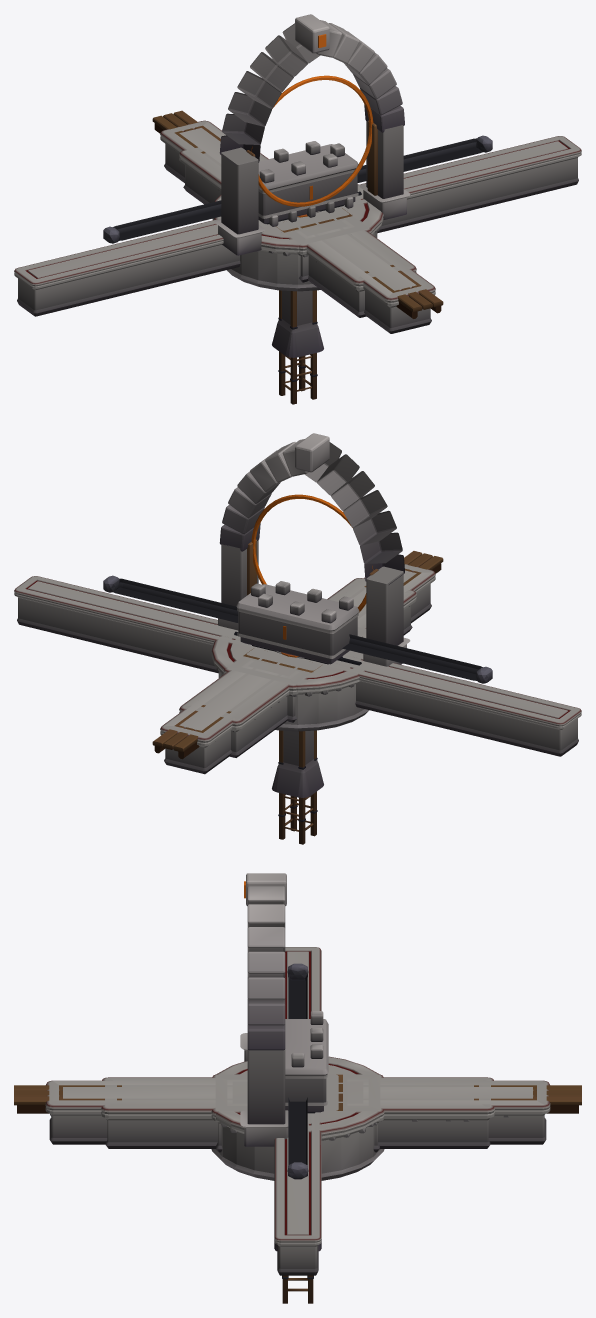
File: fortress-5-DHUVO7jc.glb
The picture shows the model from 3 angles, top to bottom: view 1: azimuth 30°, elevation 25°; view 2: azimuth 150°, elevation 25°; view 3: azimuth 270°, elevation 25°; orthographic projection. The views are drawn at different scales.
Parts seen in each view (by area): view 1: block_44x2x3#1, portal_#0, block_4x2x32_grate#1, spout_6x2#0, block_5x2x25#0, disc_12x1.5#0, mount_14.9#0, support_1_square#0, beam_2.5x1.5x36#0, truss_14#0, block_6x2x11#1; view 2: block_44x2x3#1, portal_#0, spout_6x2#0, block_4x2x32_grate#1, disc_12x1.5#0, mount_14.9#0, block_5x2x25#0, support_1_square#0, truss_14#0, beam_2.5x1.5x36#0, block_6x2x11#1; view 3: block_5x2x25#0, block_4x2x32_grate#1, portal_#0, block_44x2x3#1, disc_12x1.5#0, spout_6x2#0, mount_14.9#0, block_6x2x11#1, beam_2.5x1.5x36#0.
Part boxes in pixels (x1,y1,x2,y2): block_44x2x3#1: (14, 136, 581, 316); portal_#0: (214, 14, 410, 255); block_4x2x32_grate#1: (160, 120, 435, 333); spout_6x2#0: (258, 141, 358, 226); block_5x2x25#0: (179, 147, 416, 317); disc_12x1.5#0: (212, 184, 383, 291); mount_14.9#0: (103, 135, 492, 243); support_1_square#0: (272, 211, 323, 357); beam_2.5x1.5x36#0: (152, 110, 443, 318); truss_14#0: (278, 290, 317, 404); block_6x2x11#1: (286, 216, 372, 282); block_44x2x3#1: (14, 576, 581, 756); portal_#0: (218, 433, 410, 666); spout_6x2#0: (236, 581, 359, 664); block_4x2x32_grate#1: (160, 564, 435, 774); disc_12x1.5#0: (211, 633, 369, 731); mount_14.9#0: (103, 575, 492, 683); block_5x2x25#0: (179, 578, 416, 757); support_1_square#0: (272, 651, 323, 797); truss_14#0: (278, 730, 317, 844); beam_2.5x1.5x36#0: (152, 551, 443, 759); block_6x2x11#1: (223, 627, 366, 722); block_5x2x25#0: (101, 1077, 494, 1148); block_4x2x32_grate#1: (45, 1080, 550, 1144); portal_#0: (240, 873, 288, 1146); block_44x2x3#1: (274, 947, 321, 1275); disc_12x1.5#0: (211, 1056, 384, 1180); spout_6x2#0: (285, 1011, 328, 1113); mount_14.9#0: (287, 963, 308, 1179); block_6x2x11#1: (211, 1074, 384, 1152); beam_2.5x1.5x36#0: (14, 1085, 581, 1113).
Size of the model in its own units: 44 by 29.39 by 36.
